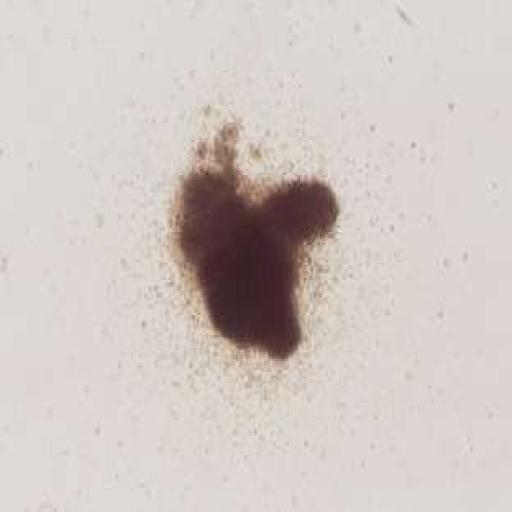CFU-GEMM: (176, 123, 338, 357)
